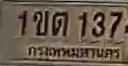1: (18, 10, 26, 35), (78, 11, 86, 36)
3: (91, 11, 104, 36)
7: (109, 11, 122, 37)
A02: (32, 10, 48, 35)
A21: (51, 11, 68, 36)
BKK: (25, 43, 123, 61)
